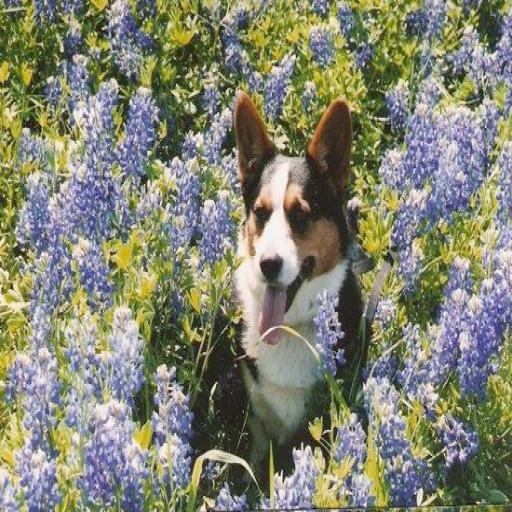dog_face: (228, 88, 358, 309)
